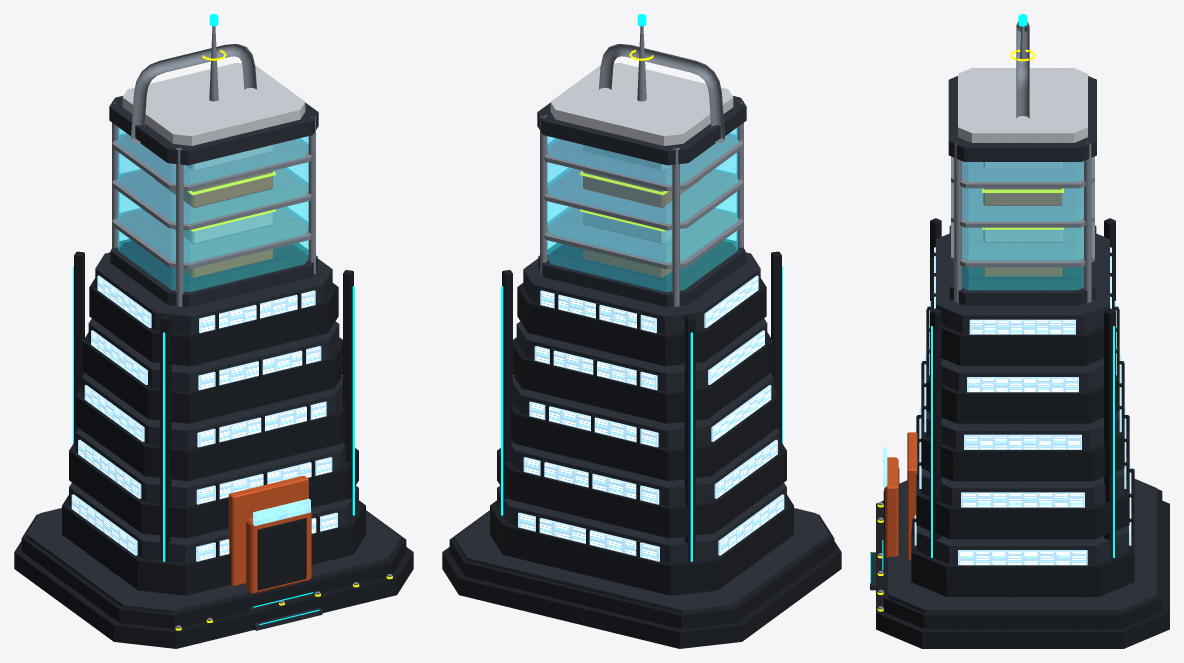
Rendered from bldg_16_r1_01.glb.
3 views of the same model, side by side, from view 1: azimuth 30°, elevation 25°; view 2: azimuth 150°, elevation 25°; view 3: azimuth 270°, elevation 25° (orthographic).
Visible parts, largest first — view 1: Bldg16_C01_gunmetal, Bldg16_C01_carbon_slate, Bldg16_C01_steel_machined, Bldg16_C01_glass_cyan, Bldg16_C01_window_lit, Bldg16_C01_aero_white, Bldg16_C01_accent_orange, Bldg16_C01_led_cyan, Bldg16_C01_marquee, Bldg16_C01_led_amber; view 2: Bldg16_C01_gunmetal, Bldg16_C01_carbon_slate, Bldg16_C01_steel_machined, Bldg16_C01_glass_cyan, Bldg16_C01_window_lit, Bldg16_C01_aero_white, Bldg16_C01_accent_orange, Bldg16_C01_led_cyan, Bldg16_C01_led_amber; view 3: Bldg16_C01_gunmetal, Bldg16_C01_carbon_slate, Bldg16_C01_steel_machined, Bldg16_C01_glass_cyan, Bldg16_C01_window_lit, Bldg16_C01_aero_white, Bldg16_C01_accent_orange, Bldg16_C01_led_cyan, Bldg16_C01_led_amber.
Boxes of the visible parts, x1,y1,x2,y2 form: Bldg16_C01_gunmetal: (14, 251, 413, 648); Bldg16_C01_carbon_slate: (26, 96, 401, 630); Bldg16_C01_steel_machined: (112, 26, 392, 628); Bldg16_C01_glass_cyan: (118, 127, 308, 291); Bldg16_C01_window_lit: (71, 275, 337, 561); Bldg16_C01_aero_white: (122, 63, 305, 244); Bldg16_C01_accent_orange: (155, 171, 311, 593); Bldg16_C01_led_cyan: (73, 14, 354, 624); Bldg16_C01_marquee: (253, 498, 310, 525); Bldg16_C01_led_amber: (175, 49, 392, 630); Bldg16_C01_gunmetal: (442, 251, 841, 648); Bldg16_C01_carbon_slate: (454, 96, 829, 613); Bldg16_C01_steel_machined: (540, 26, 743, 306); Bldg16_C01_glass_cyan: (547, 127, 737, 291); Bldg16_C01_window_lit: (518, 275, 784, 561); Bldg16_C01_aero_white: (550, 63, 733, 244); Bldg16_C01_accent_orange: (583, 171, 700, 277); Bldg16_C01_led_cyan: (501, 14, 782, 561); Bldg16_C01_led_amber: (580, 49, 668, 231); Bldg16_C01_gunmetal: (876, 218, 1169, 648); Bldg16_C01_carbon_slate: (870, 76, 1157, 613); Bldg16_C01_steel_machined: (878, 21, 1094, 609); Bldg16_C01_glass_cyan: (962, 161, 1083, 289); Bldg16_C01_window_lit: (914, 247, 1131, 565); Bldg16_C01_aero_white: (958, 68, 1087, 242); Bldg16_C01_accent_orange: (885, 188, 1062, 559); Bldg16_C01_led_cyan: (870, 14, 1114, 583); Bldg16_C01_led_amber: (877, 49, 1063, 611).
Size of the model in its own units: 12.5 by 22.02 by 10.71.
10 materials, 10 textured.
